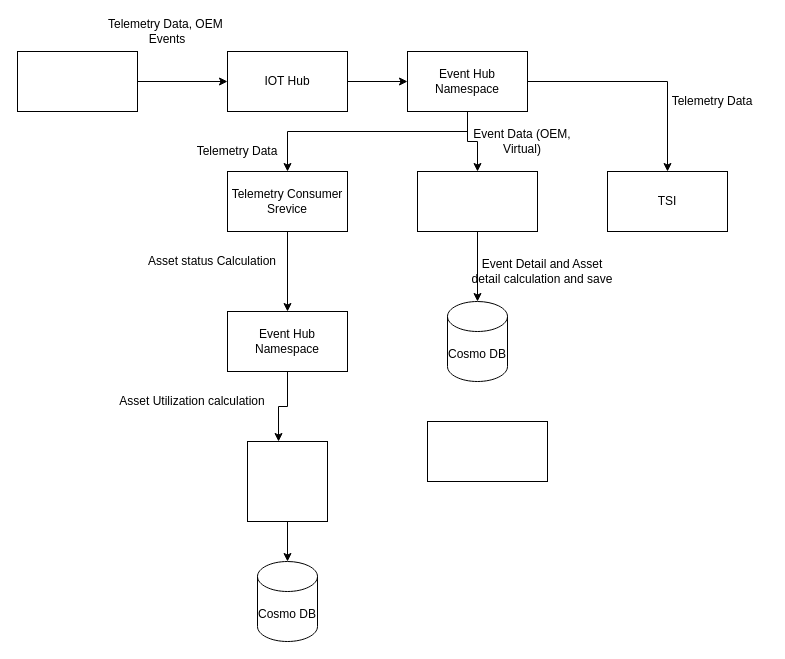
Image size: 785x659. Some labels were removed from this diagram. Here are the shapes that lost their labels. From the top down, the box of each, then its label:
(16, 50, 138, 112): Edge Devices
(416, 170, 538, 232): Event Cnsumer Service
(426, 420, 548, 482): Event Management Namespace
(246, 440, 328, 522): Asset Utilization Service
